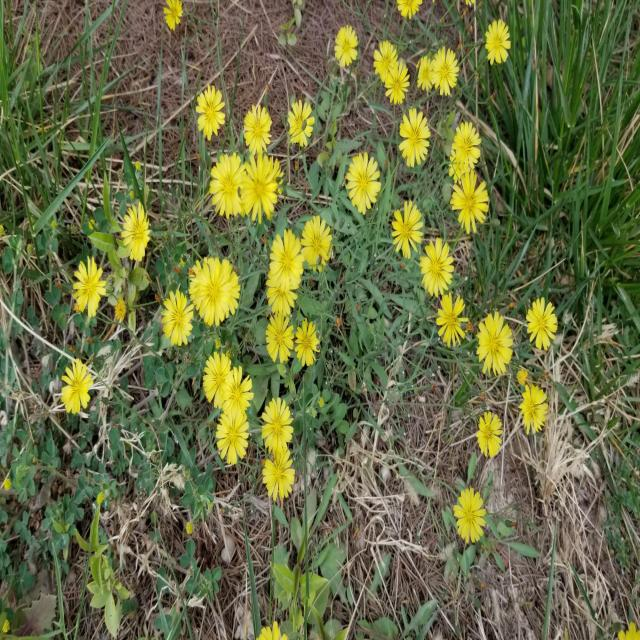organic waste: (183, 250, 234, 322), (239, 149, 283, 230), (116, 184, 154, 265), (254, 250, 300, 311), (452, 174, 492, 241), (518, 294, 564, 351), (59, 348, 94, 421), (155, 284, 193, 349), (76, 243, 106, 324), (480, 308, 516, 375), (393, 110, 434, 168), (259, 442, 299, 500), (300, 206, 336, 270), (197, 73, 230, 141), (454, 485, 489, 549), (345, 158, 386, 211), (211, 412, 252, 463), (417, 241, 453, 297), (434, 289, 468, 348), (213, 148, 244, 212), (269, 225, 303, 281), (260, 396, 290, 458), (222, 367, 254, 425), (240, 102, 278, 150), (432, 39, 459, 104), (388, 206, 421, 259), (203, 354, 235, 408), (521, 378, 548, 442), (451, 116, 480, 175), (290, 320, 323, 371), (286, 93, 314, 150), (482, 21, 513, 64), (267, 309, 293, 359), (373, 29, 395, 86), (474, 410, 504, 451), (386, 51, 411, 96), (338, 23, 359, 72), (165, 0, 185, 40), (420, 42, 434, 96), (399, 2, 424, 24)
